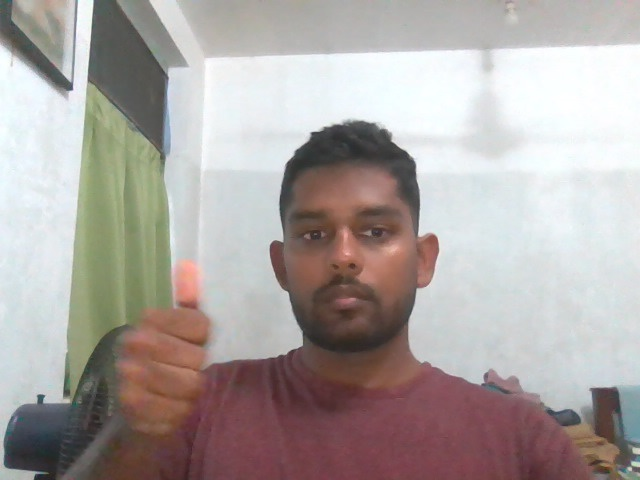good.: (88, 251, 217, 431)
